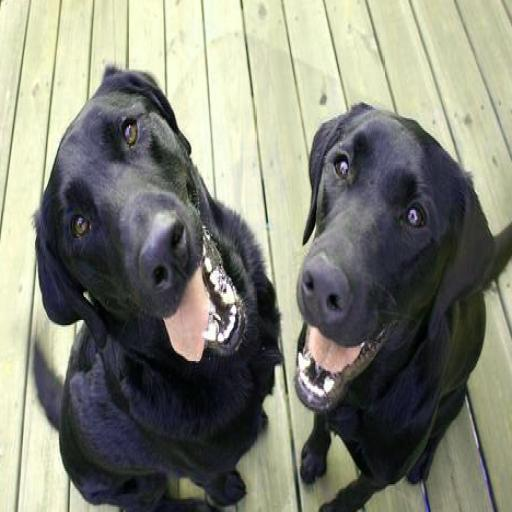dog_face: (20, 64, 241, 361), (300, 95, 454, 410)
